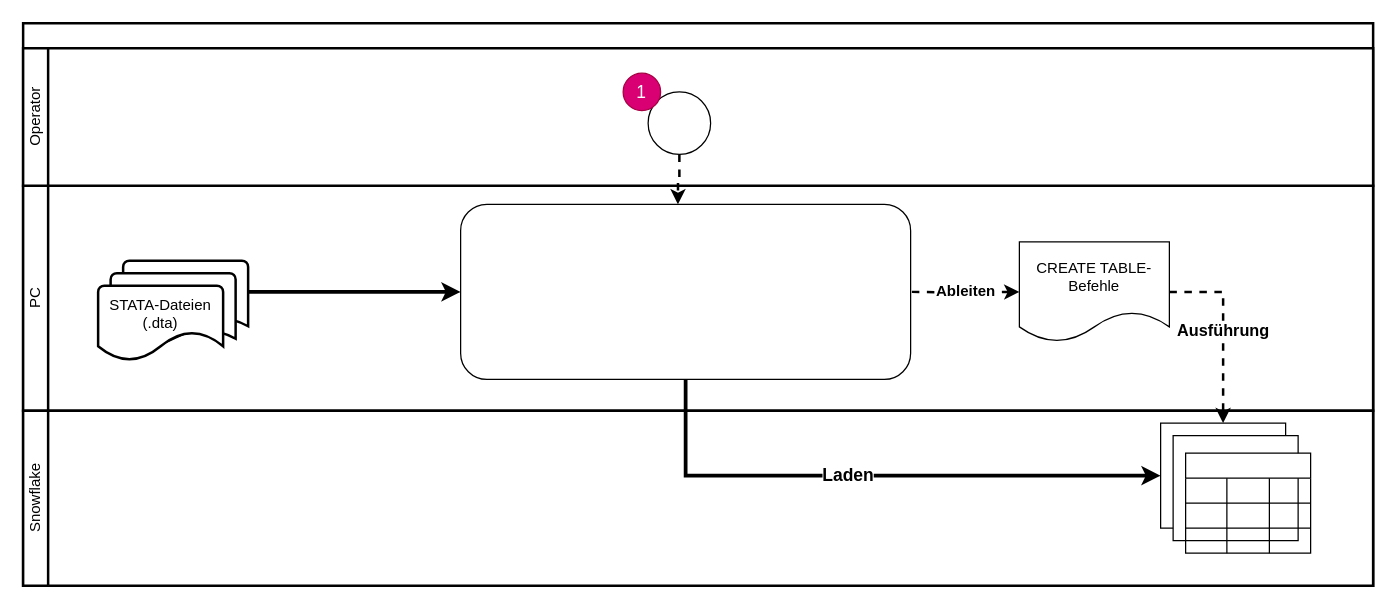
The diagram is 1395 pixels wide and 608 high, and some of its shapes have lost their labels. Each missing label, with the centre of its shape:
Python-Programm: import_HS12_directly.stata.py: the point at 685,291
Start: the point at 679,122
Table: the point at 1247,502
